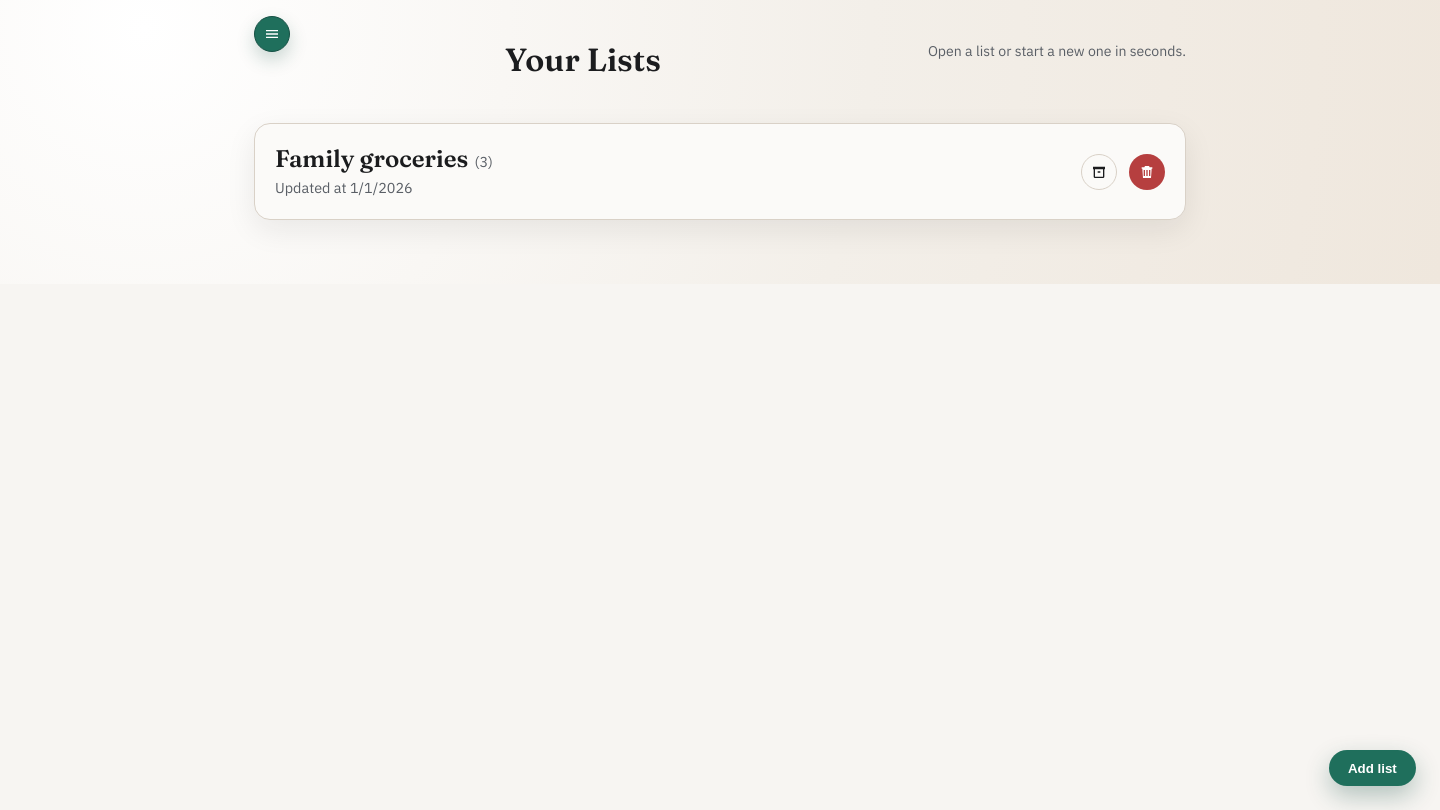
Lists route › deletes an existing entry
The image size is (1440, 810).
Check: the heading "Family groceries" is shown, box 275,144 -> 468,173
Click the button named "Delete": (1147, 172) 1129,154 -> 1165,190
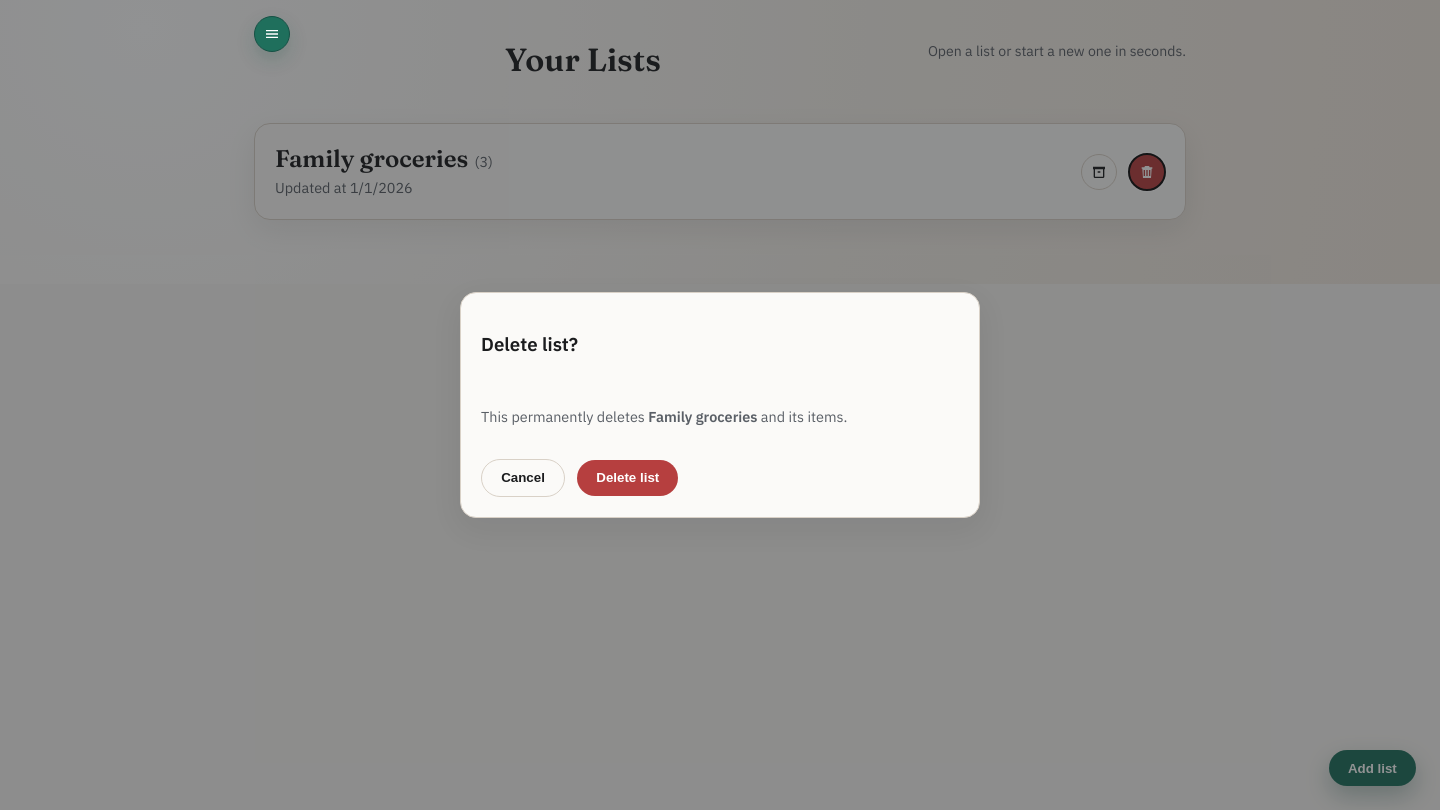
Check: the heading "Delete list?" is shown, box 481,332 -> 578,356
Click the button "Delete list": (628, 478) 577,460 -> 678,496
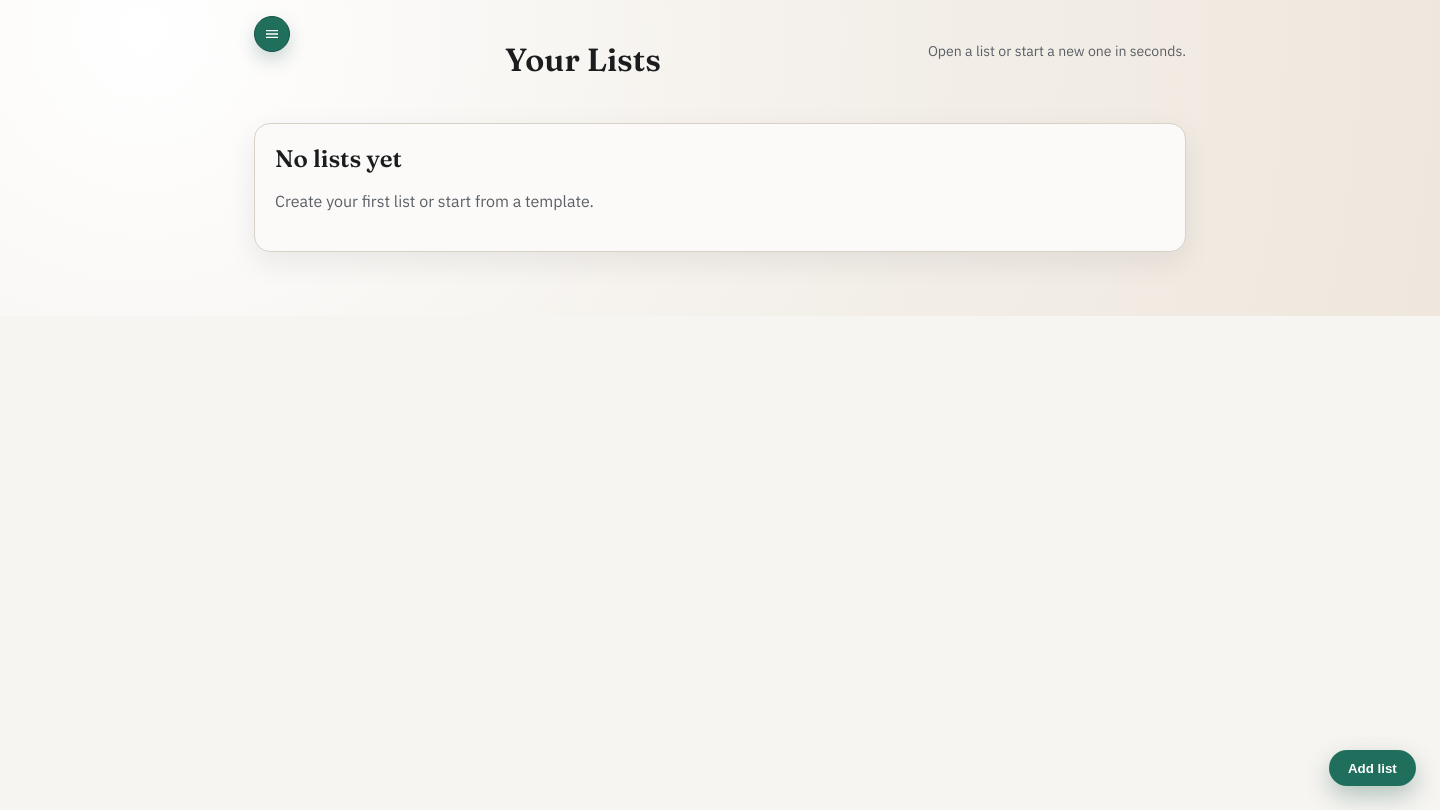
Check: the button "Family groceries" is gone
